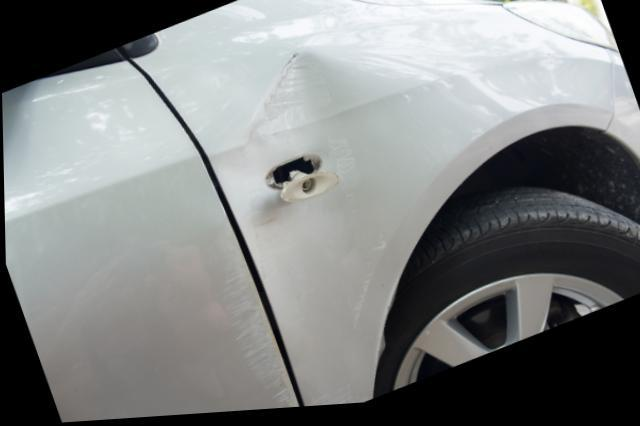dent: (260, 52, 390, 282)
scratch: (217, 237, 297, 412), (252, 220, 311, 327), (309, 386, 367, 410), (352, 277, 370, 333)
